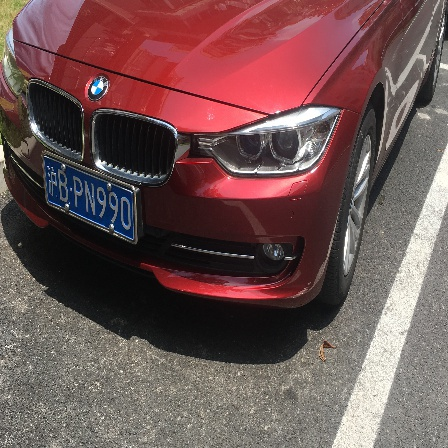plate: (41, 152, 140, 239)
